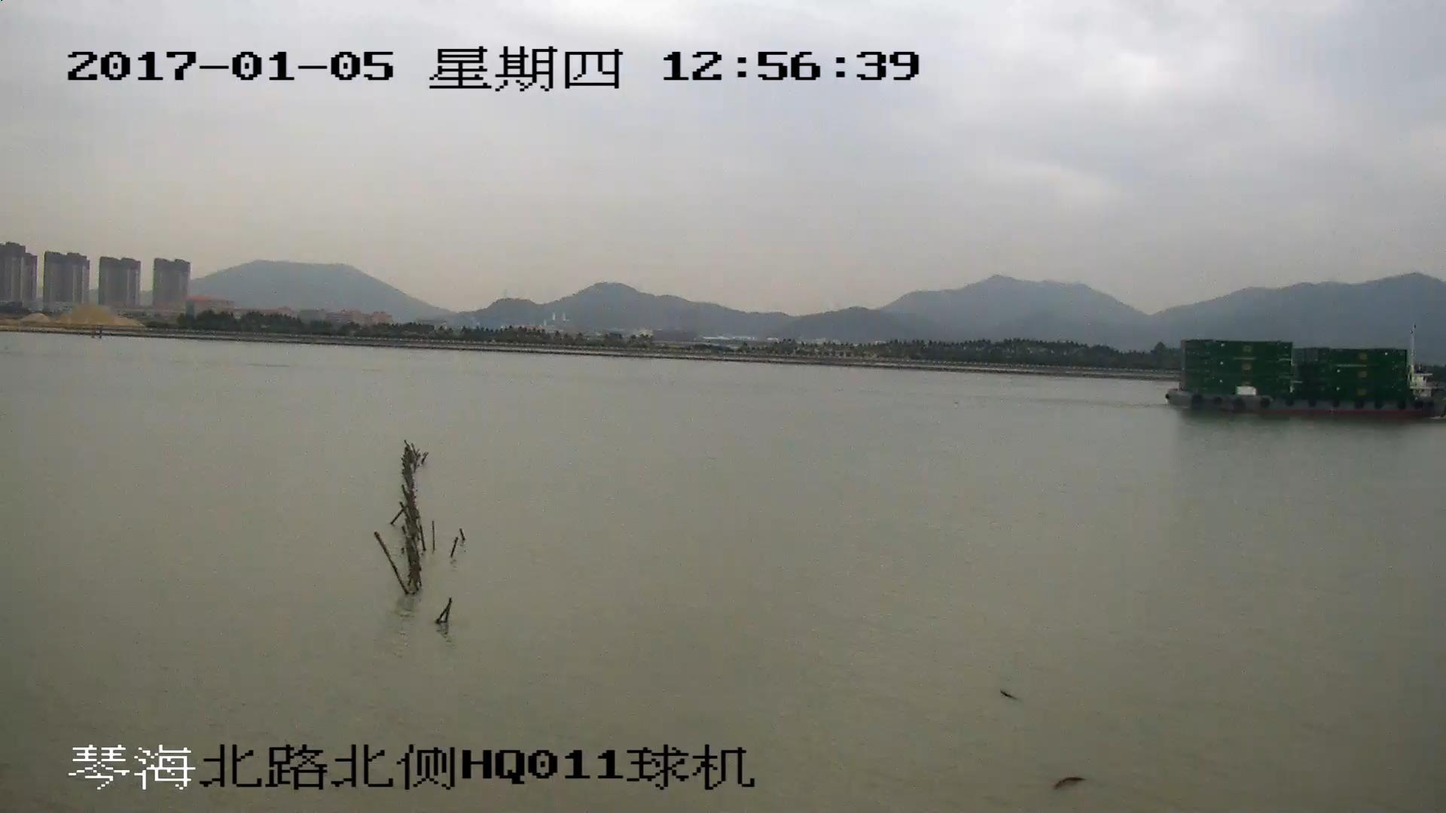container ship: (1171, 338, 1445, 416)
